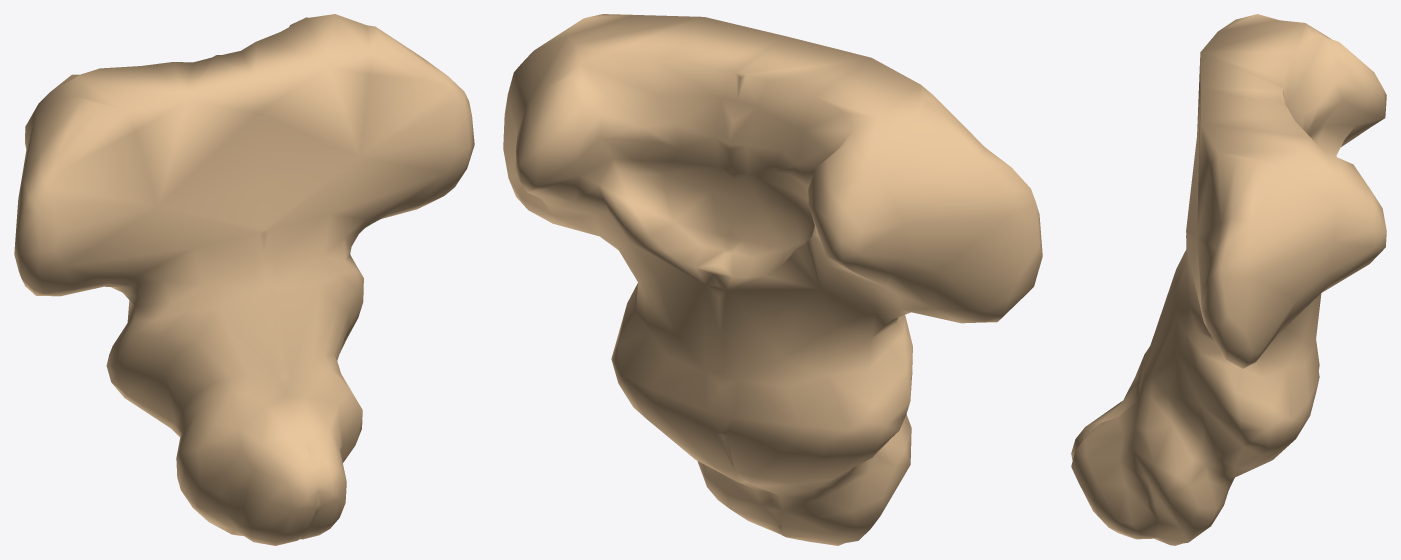
Rendered from Coccyx.glb.
The picture shows the model from 3 angles, left to right: view 1: azimuth 30°, elevation 25°; view 2: azimuth 150°, elevation 25°; view 3: azimuth 270°, elevation 25°; orthographic projection. The views are drawn at different scales.
Visible parts, largest first — view 1: Coccyx_Cone.045; view 2: Coccyx_Cone.045; view 3: Coccyx_Cone.045.
Boxes of the visible parts, left/top/right/bottom form: Coccyx_Cone.045: left=14, top=14, right=474, bottom=545; Coccyx_Cone.045: left=503, top=14, right=1042, bottom=545; Coccyx_Cone.045: left=1071, top=14, right=1386, bottom=545.
Size of the model in its own units: 0.0335 by 0.0308 by 0.0197.
